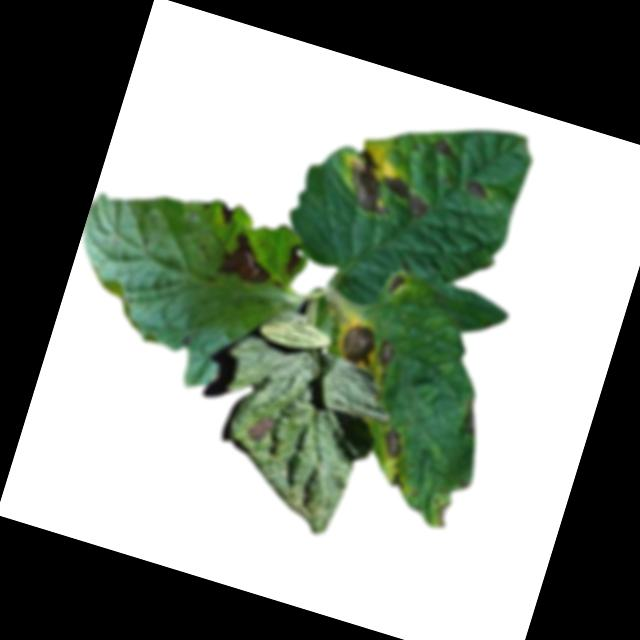Early_blight: (337, 143, 403, 219), (214, 226, 282, 292), (375, 172, 438, 220), (336, 318, 382, 368), (243, 408, 281, 447), (377, 424, 409, 462), (457, 399, 485, 439), (283, 238, 309, 279), (375, 336, 402, 366), (462, 177, 492, 204), (431, 495, 453, 529), (382, 271, 407, 300), (432, 136, 461, 160), (216, 200, 240, 228), (389, 470, 409, 491)
